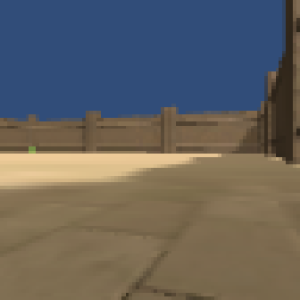goodGoal: (27, 145, 38, 154)
